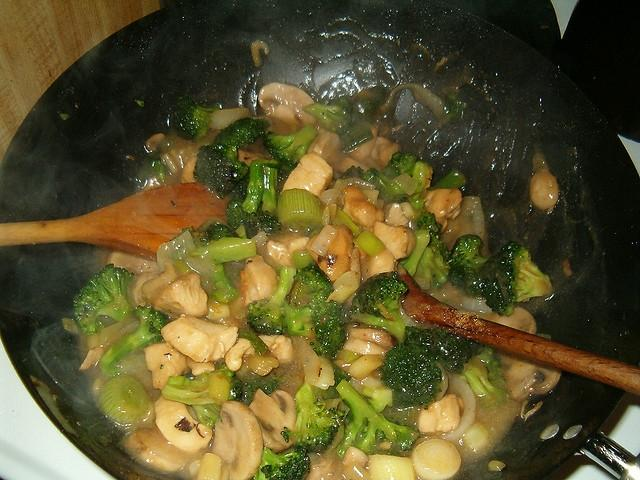broccoli: (170, 222, 257, 304), (466, 241, 554, 317), (336, 379, 420, 456), (342, 270, 408, 346), (100, 306, 172, 375), (162, 366, 242, 428), (72, 263, 134, 336), (379, 344, 442, 410), (227, 164, 283, 238), (282, 384, 340, 452), (247, 266, 296, 336), (404, 326, 474, 374), (192, 143, 250, 199), (263, 123, 319, 167), (413, 232, 454, 290), (172, 94, 222, 141), (311, 300, 351, 356), (448, 234, 488, 288), (302, 95, 353, 137), (290, 260, 334, 308), (253, 446, 311, 480), (212, 118, 270, 150), (361, 168, 409, 204), (234, 372, 282, 406), (398, 229, 430, 277), (134, 152, 166, 191), (332, 166, 377, 191), (383, 152, 419, 182), (362, 385, 392, 413), (429, 169, 467, 191), (413, 211, 442, 233), (426, 228, 442, 247)
celery: (100, 374, 151, 428), (278, 189, 322, 231), (190, 237, 257, 264), (400, 228, 430, 276), (354, 230, 386, 258)
mushroom: (212, 400, 264, 480), (493, 348, 562, 402), (360, 220, 416, 284), (153, 394, 213, 452), (252, 82, 316, 134), (248, 388, 298, 454), (126, 428, 190, 473), (154, 273, 208, 321), (306, 224, 352, 280), (439, 377, 476, 442), (107, 250, 158, 286), (486, 307, 537, 335), (530, 168, 558, 214), (258, 336, 294, 364), (314, 131, 342, 166), (342, 337, 386, 356), (78, 346, 105, 370), (342, 446, 368, 468)
